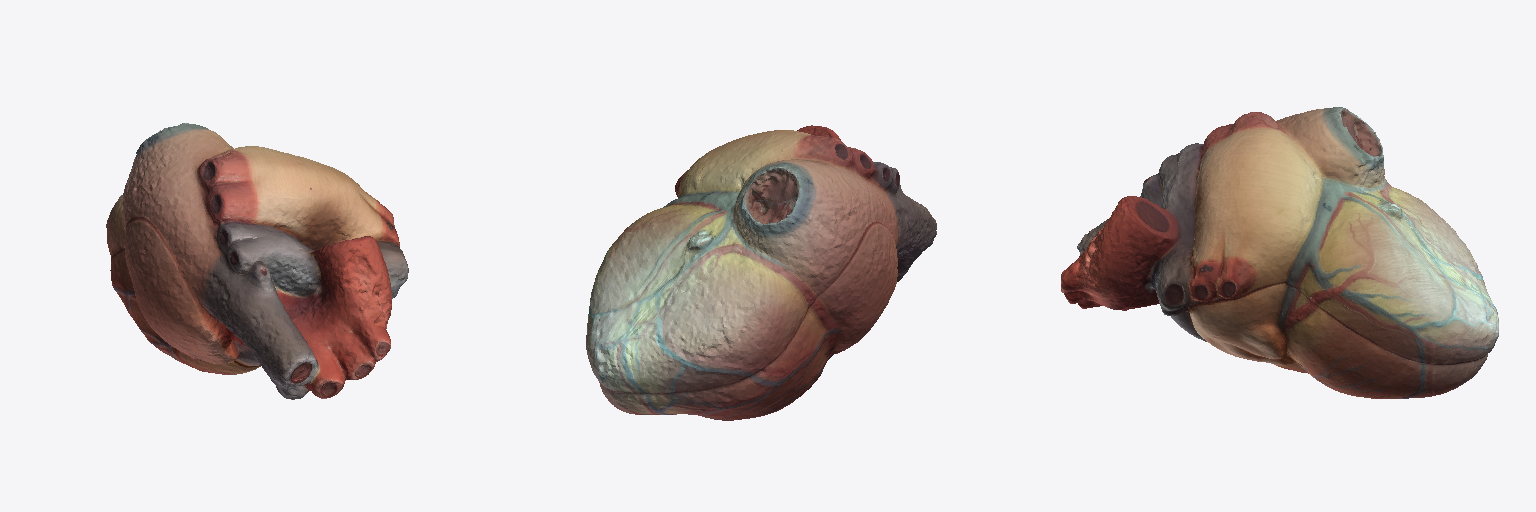
3 renders of one model, left to right at view 1: azimuth 30°, elevation 25°; view 2: azimuth 150°, elevation 25°; view 3: azimuth 270°, elevation 25°, orthographic.
Bounding box in the file's own units: 2.92 × 2.94 × 4.79.
1 materials, 1 textured.